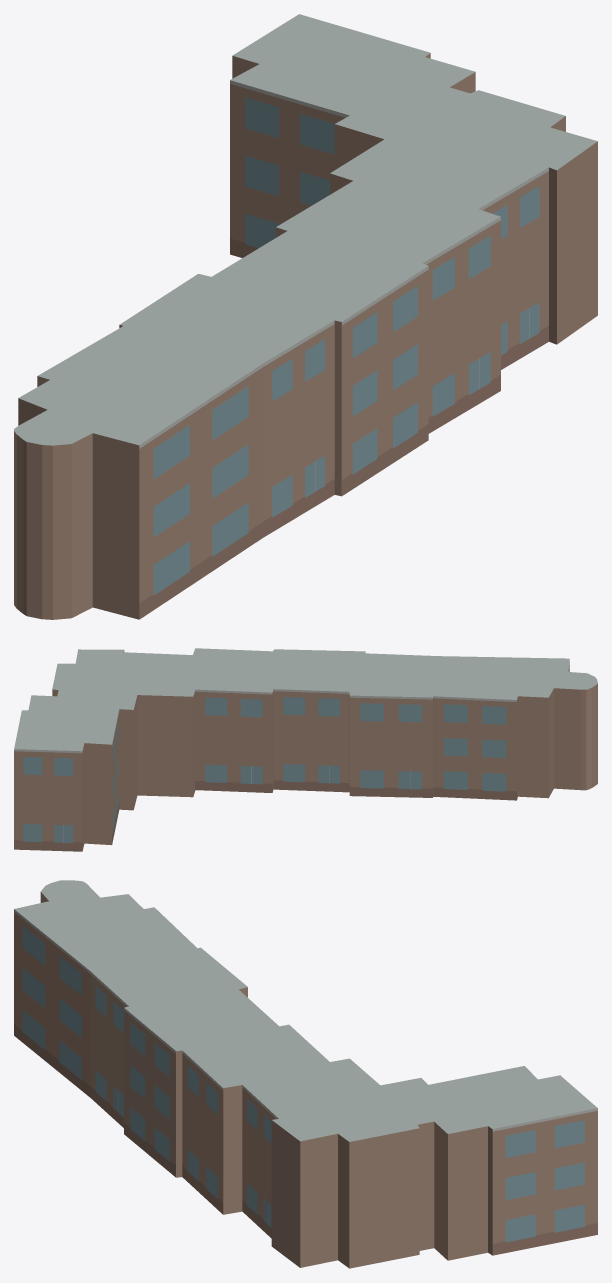
The model's file is survey-upis-32473764.glb.
3 renders of one model, top to bottom at view 1: azimuth 30°, elevation 25°; view 2: azimuth 150°, elevation 25°; view 3: azimuth 270°, elevation 25°, orthographic. The views are drawn at different scales.
Visible parts, largest first — view 1: survey-upis-32473764.tmp; view 2: survey-upis-32473764.tmp; view 3: survey-upis-32473764.tmp.
Boxes of the visible parts, x1=… form: survey-upis-32473764.tmp: x1=14, y1=14, x2=597, y2=619; survey-upis-32473764.tmp: x1=14, y1=648, x2=597, y2=851; survey-upis-32473764.tmp: x1=14, y1=880, x2=597, y2=1268.
Size of the model in its own units: 52.32 by 11.8 by 49.33.
